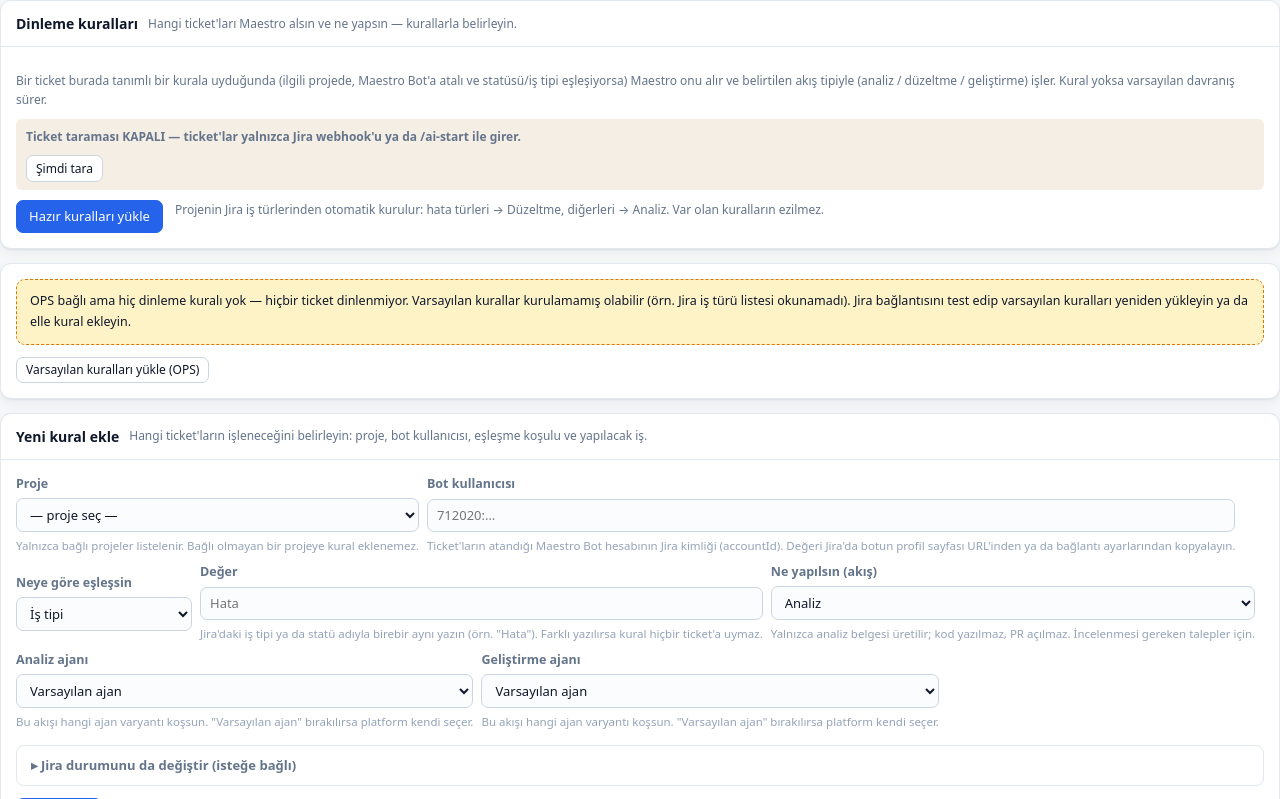
it: ListeningScreen › seeds the ready-made rules for the chosen project and reports the counts
Check: the heading "Yeni kural ekle" is shown, box [16, 426, 119, 446]
Select "OPS" in the dropdown labelled "Proje" at (217, 515), box [16, 498, 419, 532]
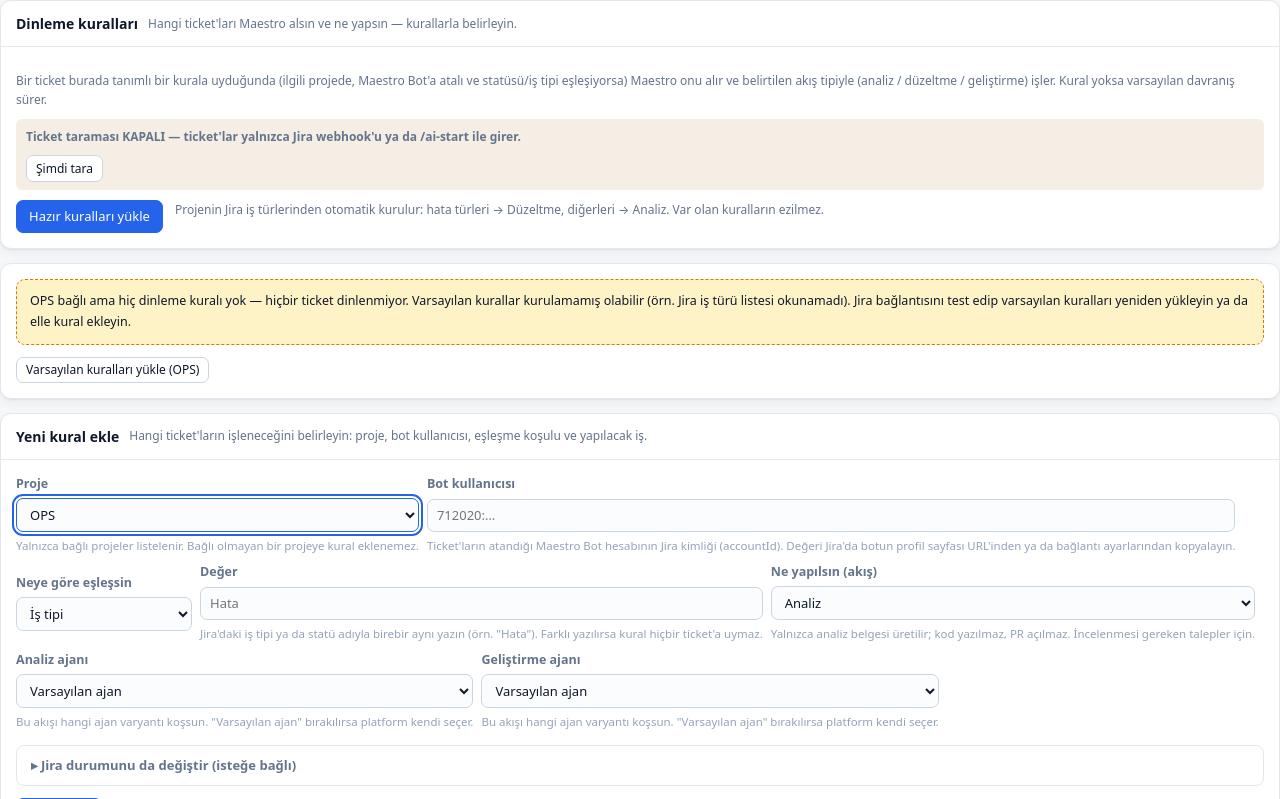
Click the button "Hazır kuralları yükle" at (89, 217), box [16, 200, 163, 233]
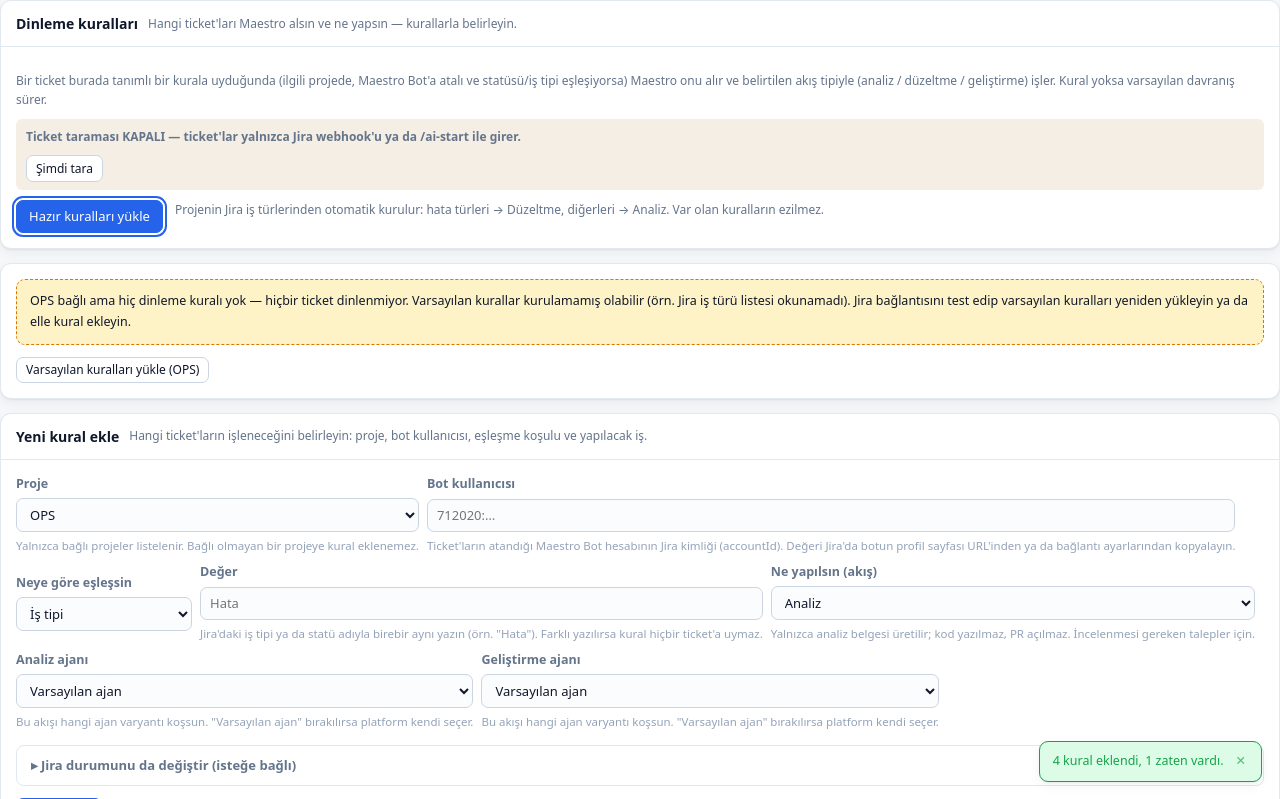
Check: the text "4 kural eklendi, 1 zaten vardı." is shown, box [1053, 752, 1224, 771]
